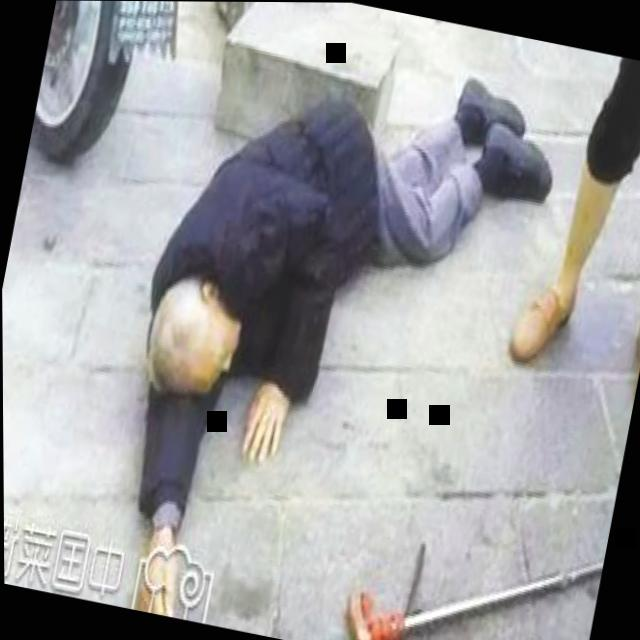Fall-Detected: (72, 0, 588, 640)
